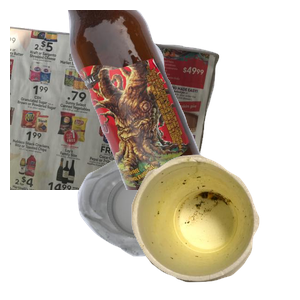glass: (65, 10, 300, 190)
paper: (10, 21, 222, 201)
plastic: (75, 154, 248, 300)
trash: (129, 152, 300, 300)
